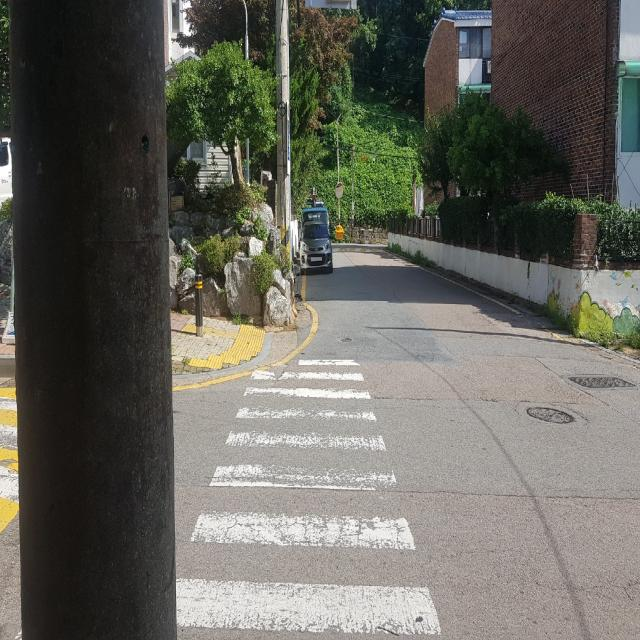횡단보도: (176, 358, 442, 636)
